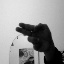h: (14, 21, 55, 53)
